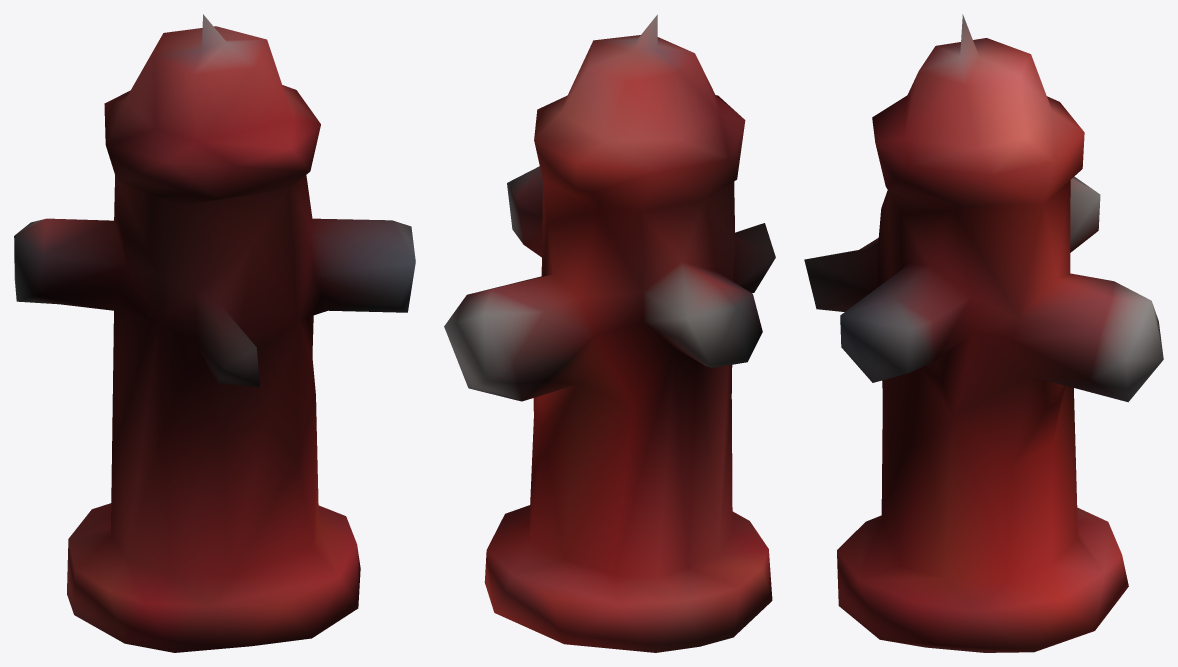
File: gen_hydrant_lowpoly.mobile-low.glb
3 views of the same model, side by side, from view 1: azimuth 30°, elevation 25°; view 2: azimuth 150°, elevation 25°; view 3: azimuth 270°, elevation 25° (orthographic). The views are drawn at different scales.
Parts seen in each view (by area): view 1: gen_hydrant_lowpoly; view 2: gen_hydrant_lowpoly; view 3: gen_hydrant_lowpoly.
Part boxes in pixels (box(x1,y1,x2,y2)): gen_hydrant_lowpoly: box(14, 14, 415, 652); gen_hydrant_lowpoly: box(444, 14, 775, 652); gen_hydrant_lowpoly: box(804, 14, 1163, 652).
Size of the model in its own units: 0.4514 by 0.8009 by 0.452.
